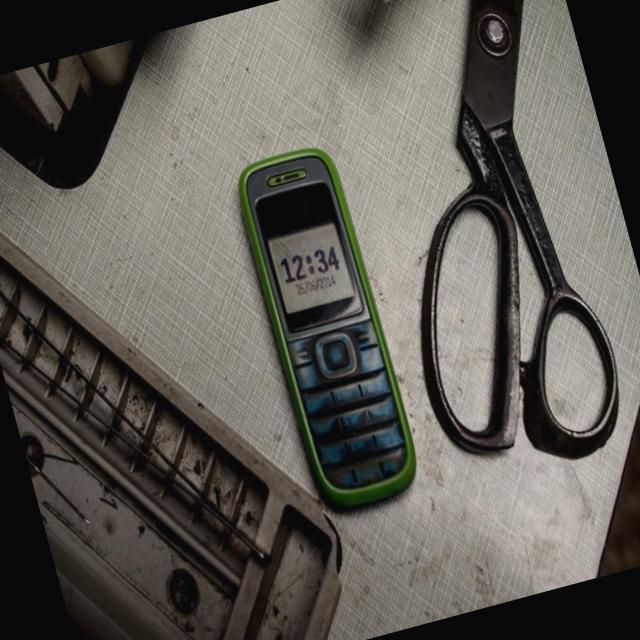Phone: (226, 138, 428, 520)
